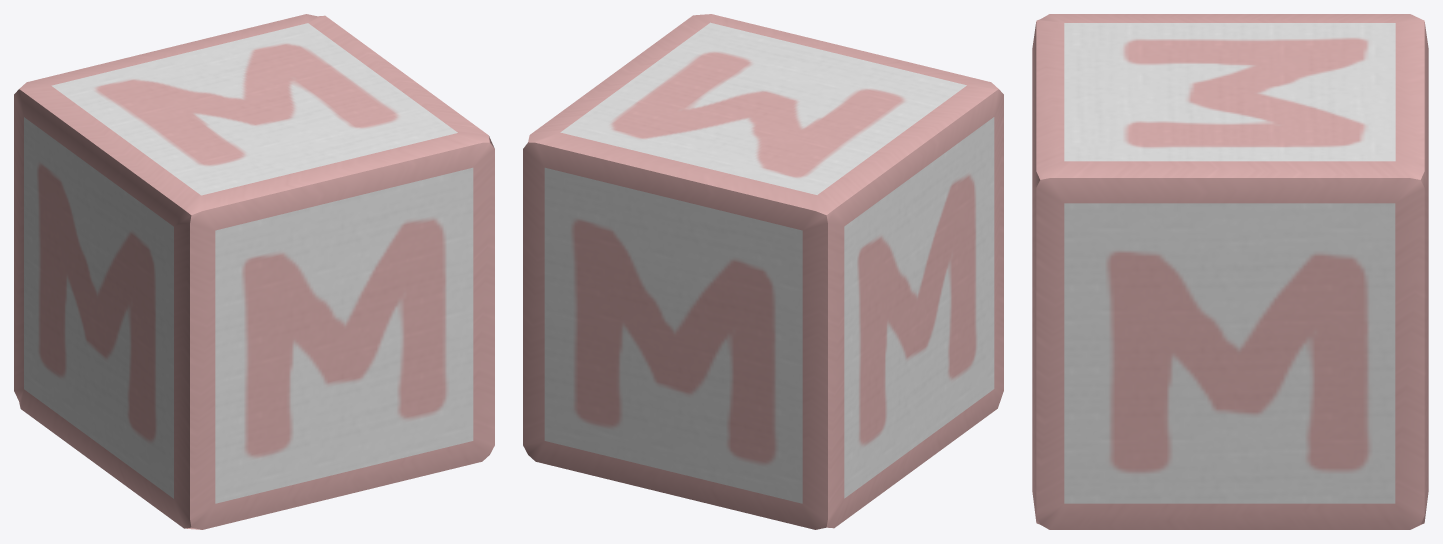
File: BlockM.fbx
3 views of the same model, side by side, from view 1: azimuth 30°, elevation 25°; view 2: azimuth 150°, elevation 25°; view 3: azimuth 270°, elevation 25° (orthographic). The views are drawn at different scales.
Parts seen in each view (by area): view 1: pCube1; view 2: pCube1; view 3: pCube1.
Boxes of the visible parts, bbox=[...] form: pCube1: bbox=[14, 14, 494, 529]; pCube1: bbox=[523, 14, 1003, 529]; pCube1: bbox=[1032, 14, 1428, 529].
Bounding box in the file's own units: 9 × 9 × 9.
